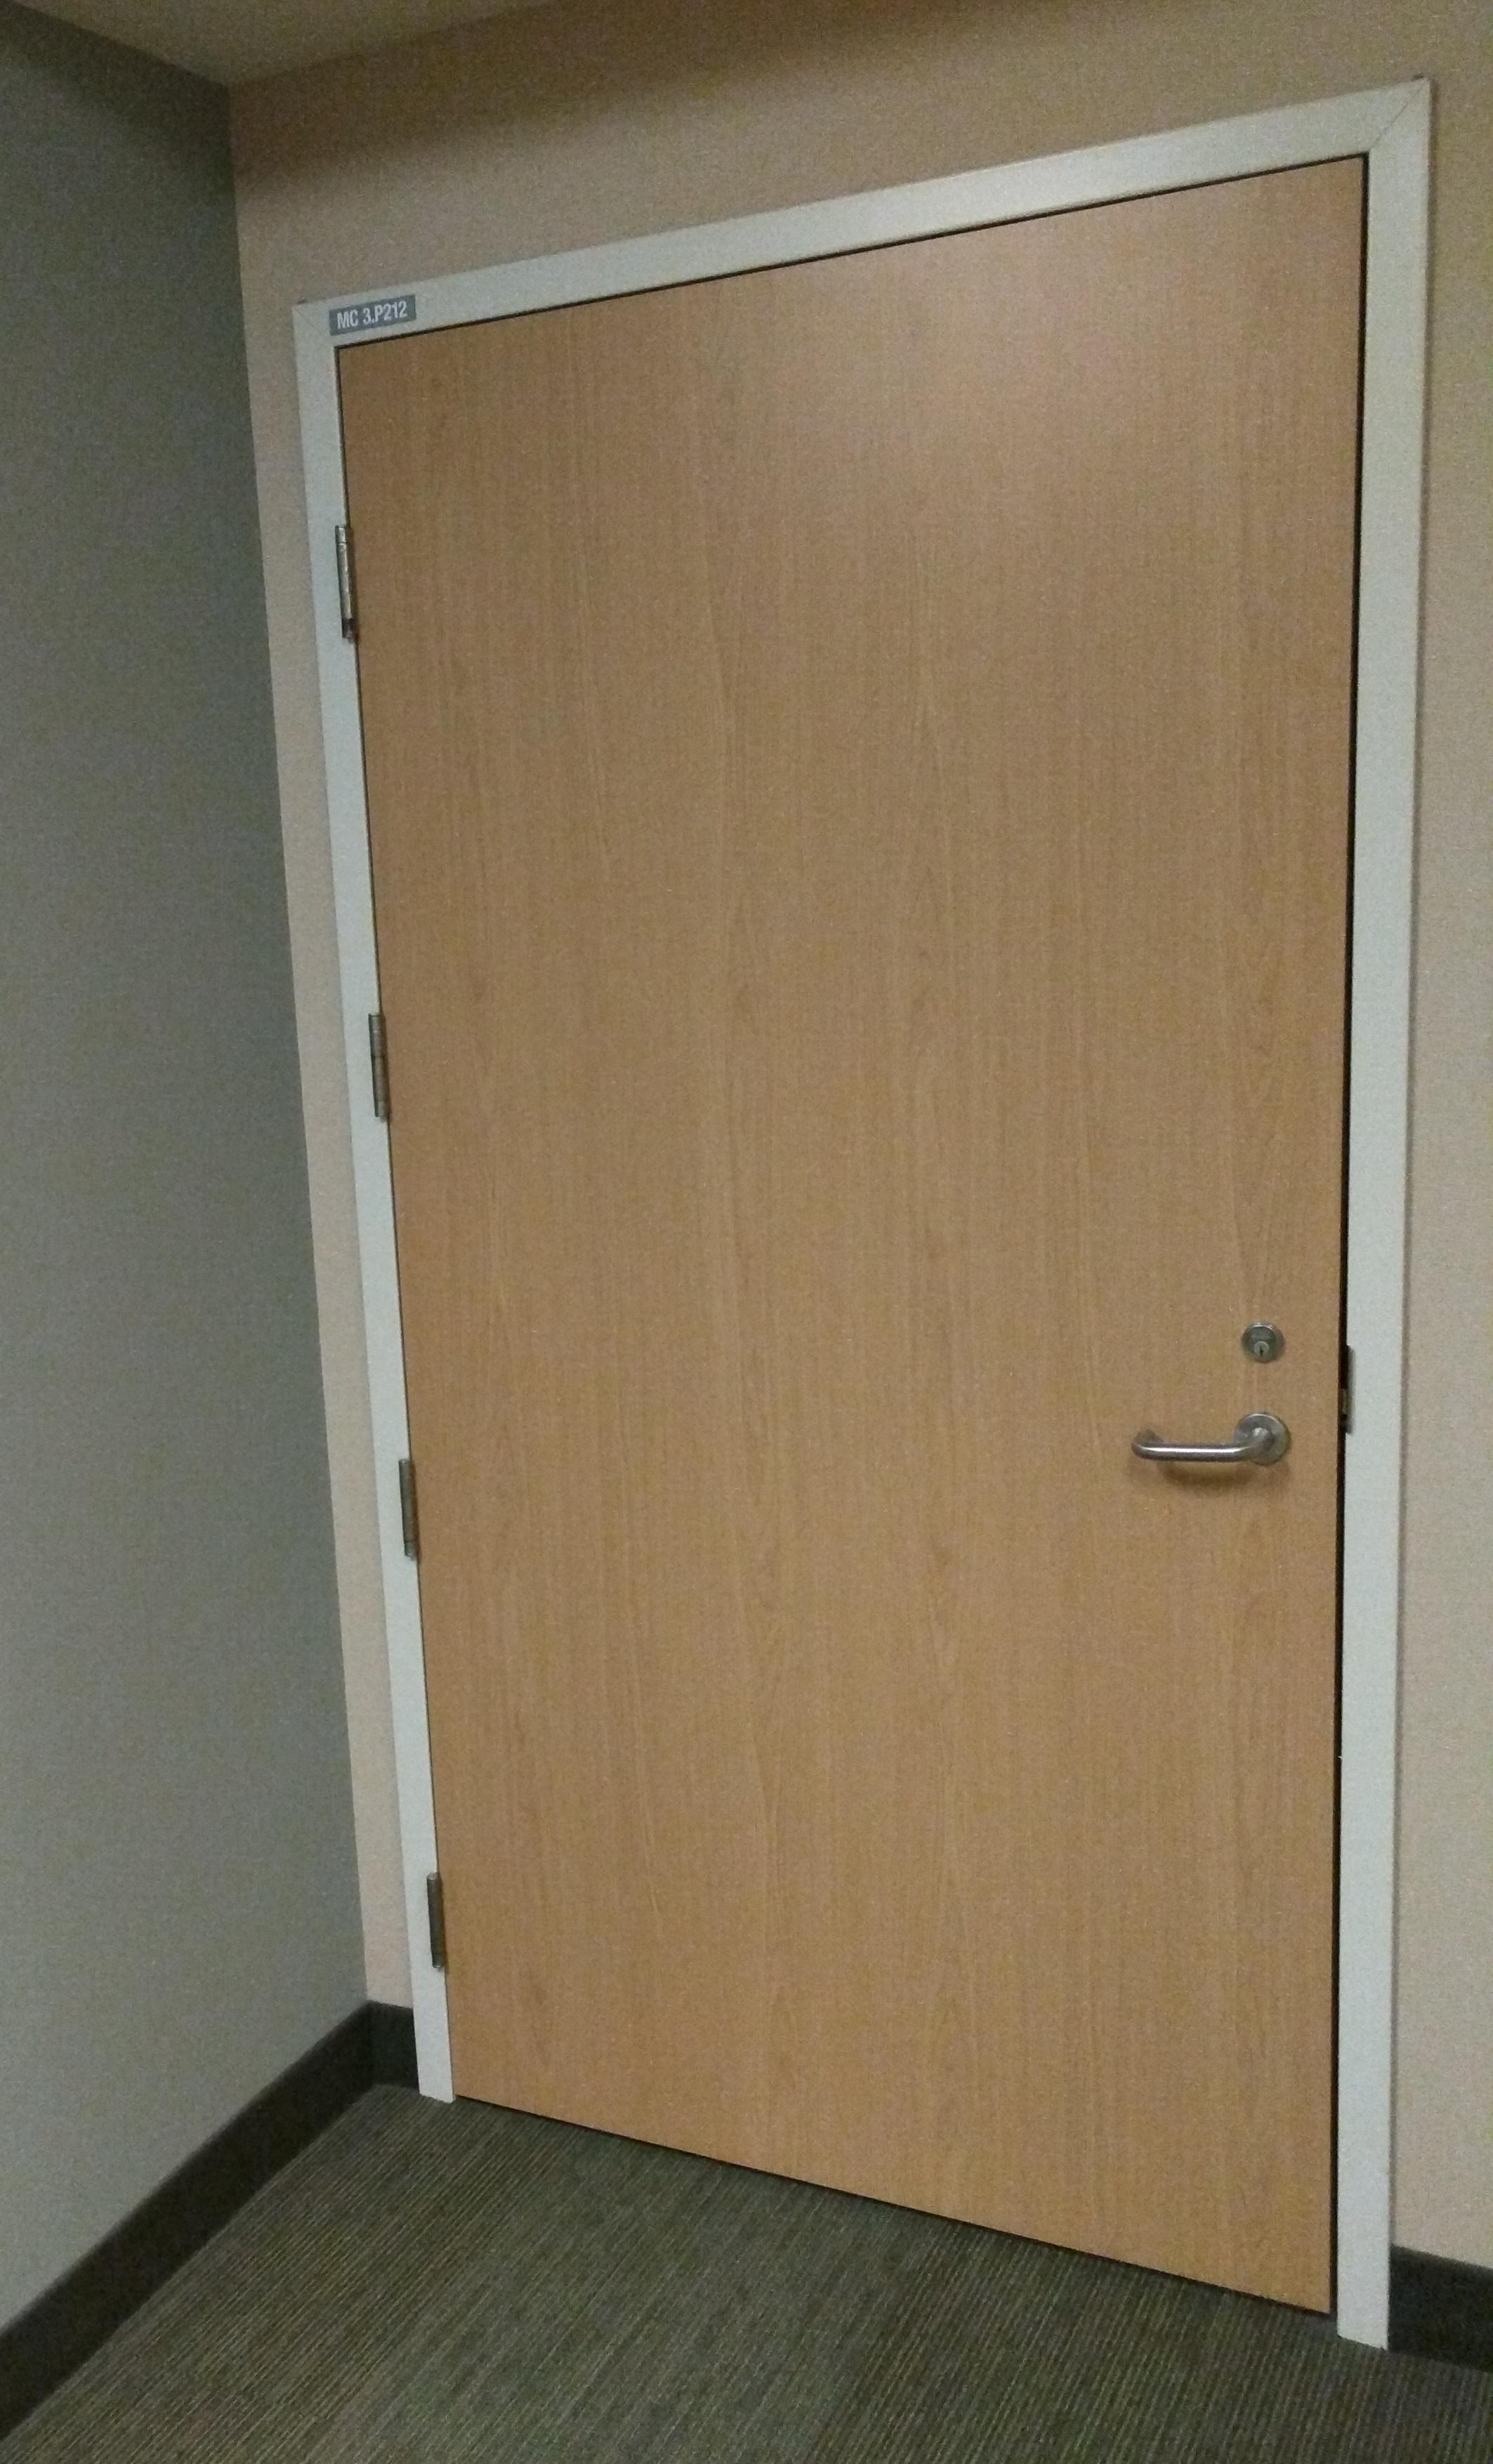door: (368, 136, 1386, 2281)
